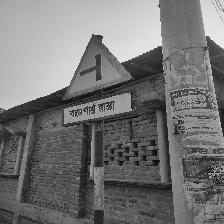Side-road-left: (61, 34, 137, 126)
